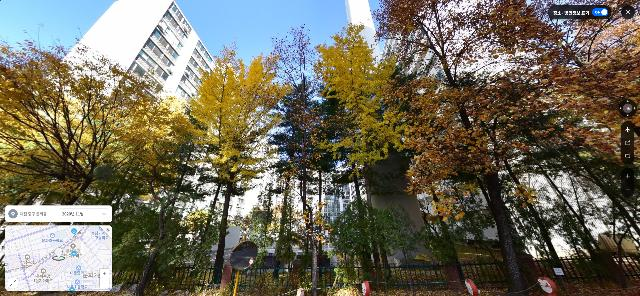ginkgo: (1, 35, 183, 296), (176, 39, 292, 286), (314, 23, 416, 289), (93, 86, 209, 296)
other: (369, 1, 639, 295), (259, 23, 342, 289), (508, 124, 639, 292)
